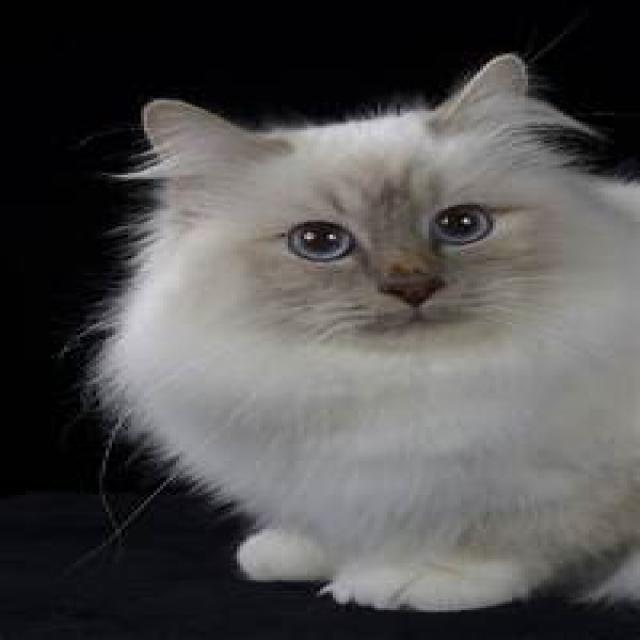cat: (65, 69, 640, 618)
